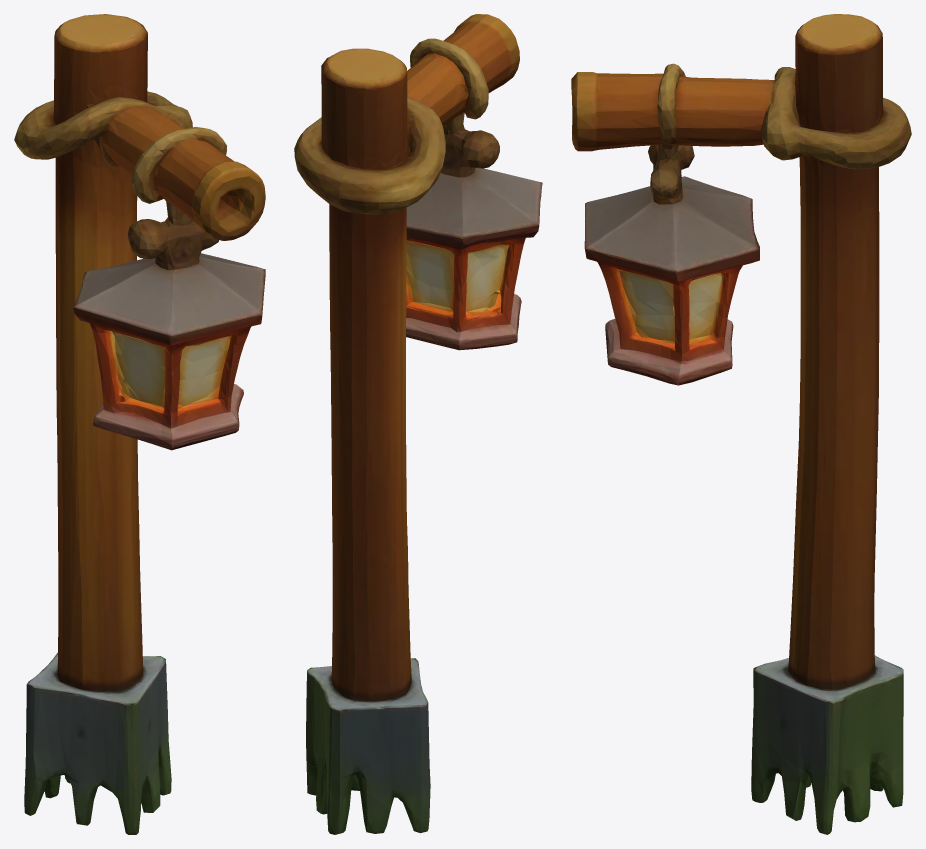
The model's file is lamp_post.glb.
The picture shows the model from 3 angles, left to right: view 1: azimuth 30°, elevation 25°; view 2: azimuth 150°, elevation 25°; view 3: azimuth 270°, elevation 25°; orthographic projection. The views are drawn at different scales.
Parts seen in each view (by area): view 1: world.001; view 2: world.001; view 3: world.001.
Boxes of the visible parts, box(x1,y1,x2,y2) form: world.001: box(14, 14, 265, 834); world.001: box(294, 14, 542, 834); world.001: box(571, 14, 911, 834).
Bounding box in the file's own units: 0.2547 × 1 × 0.3993.
Materials: 1 (1 with a texture image).
